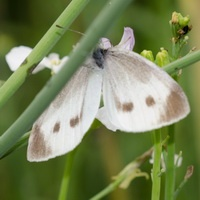insect: (27, 27, 189, 161)
